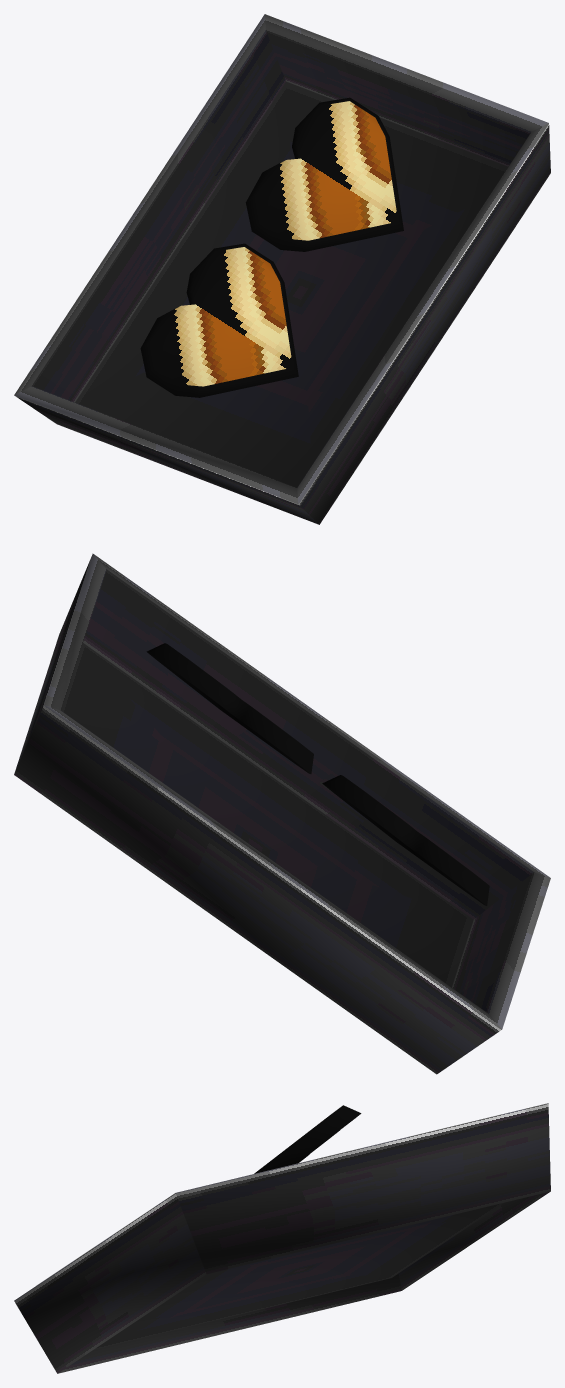
The picture shows the model from 3 angles, top to bottom: view 1: azimuth 30°, elevation 25°; view 2: azimuth 150°, elevation 25°; view 3: azimuth 270°, elevation 25°; orthographic projection. The views are drawn at different scales.
Visible parts, largest first — view 1: 2767item2767e; view 2: 2767item2767e; view 3: 2767item2767e.
Part boxes in pixels (left/top/right/bottom): 2767item2767e: left=14, top=14, right=550, bottom=524; 2767item2767e: left=14, top=553, right=550, bottom=1074; 2767item2767e: left=14, top=1103, right=550, bottom=1373.
Bounding box in the file's own units: 0.8972 × 0.5891 × 0.7962.
Materials: 2 (2 with a texture image).
